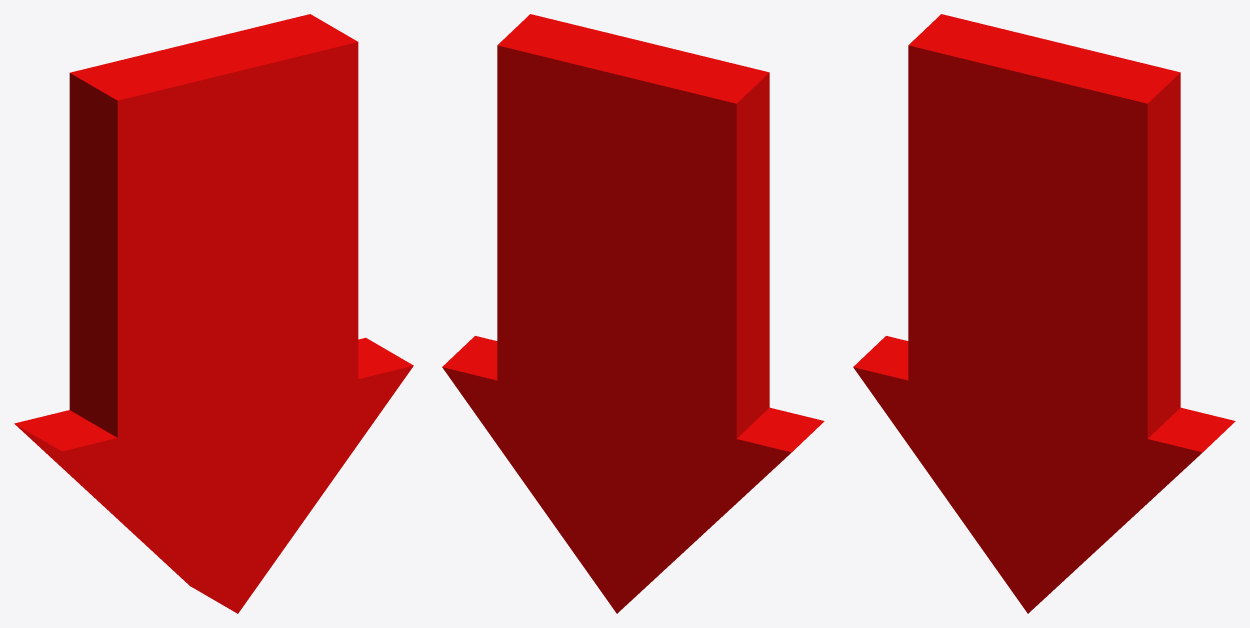
Rendered from arrow.obj.
3 views of the same model, side by side, from view 1: azimuth 30°, elevation 25°; view 2: azimuth 150°, elevation 25°; view 3: azimuth 330°, elevation 25° (orthographic).
Visible parts, largest first — view 1: Mesh1 Model; view 2: Mesh1 Model; view 3: Mesh1 Model.
Boxes of the visible parts, <box> form: Mesh1 Model: <box>14,14,413,613</box>; Mesh1 Model: <box>442,14,824,613</box>; Mesh1 Model: <box>853,14,1235,613</box>.
Size of the model in its own units: 1.94 by 2.8 by 0.38.
